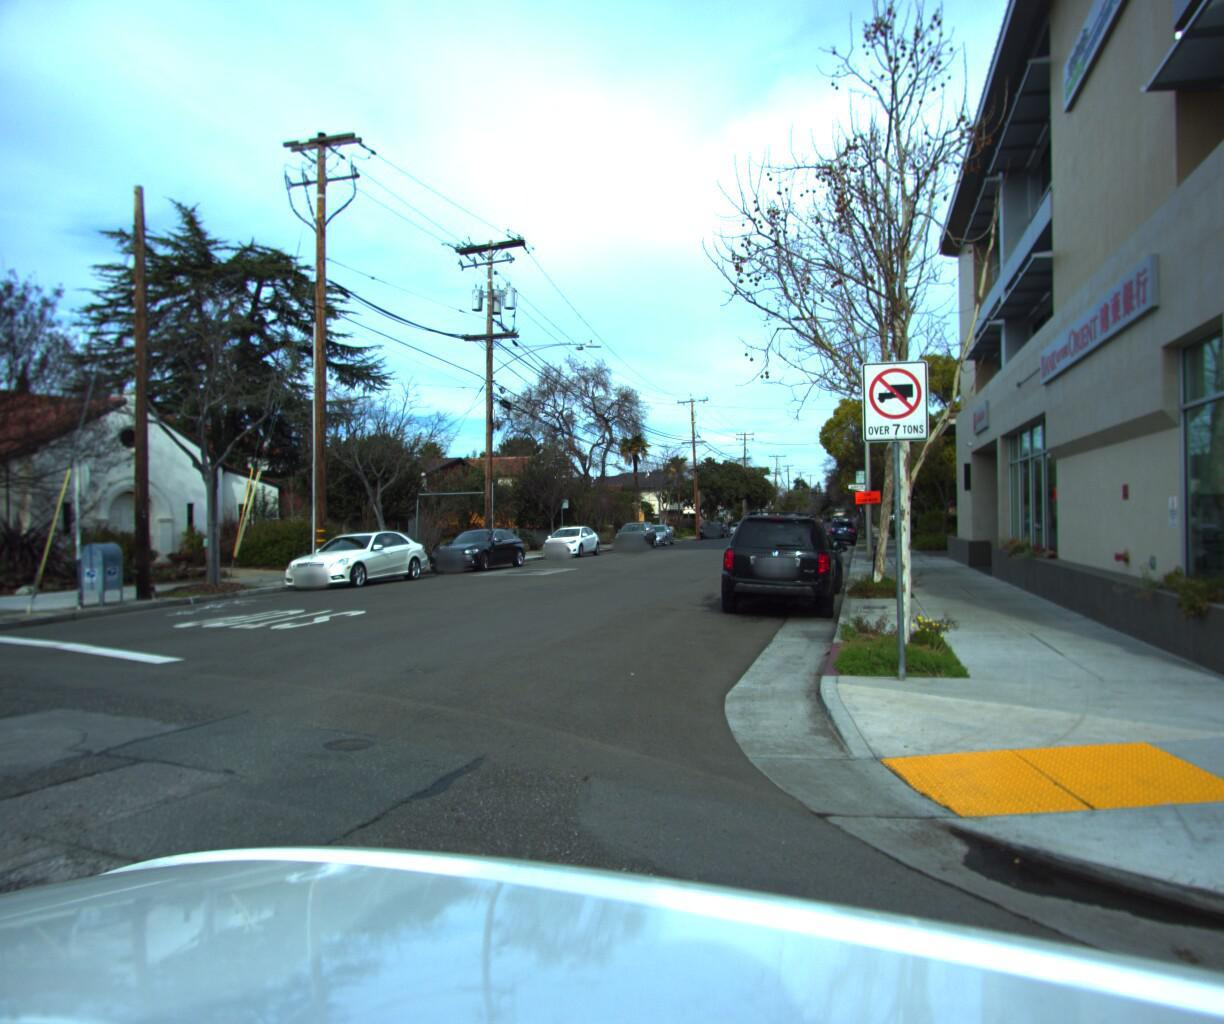car: (710, 505, 839, 622), (272, 522, 435, 589), (759, 520, 843, 592), (420, 521, 530, 569), (536, 517, 603, 553), (610, 514, 661, 544)
